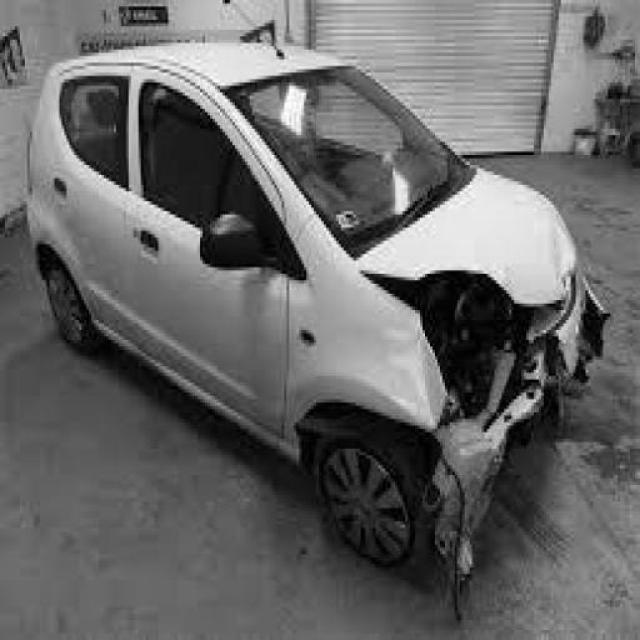crush: (362, 218, 612, 620)
